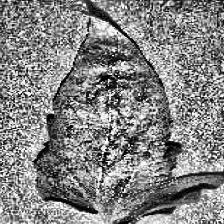spider mites: (35, 14, 224, 224)
